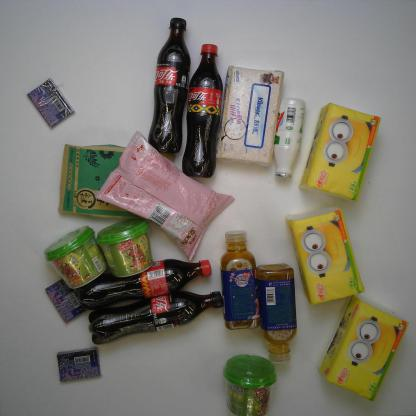Dried Food: (49, 142, 179, 223)
Drink: (85, 255, 214, 308), (88, 292, 224, 342), (147, 15, 190, 159), (258, 260, 311, 366), (186, 45, 226, 179), (218, 229, 263, 335)
Gum: (49, 346, 109, 388), (26, 78, 72, 131), (41, 276, 87, 326)
Instant Drink: (44, 224, 106, 290), (96, 218, 156, 282), (217, 352, 278, 413)
Milk: (268, 97, 305, 181)
Puffed Food: (100, 134, 234, 256)
Tissue: (315, 293, 410, 404), (281, 210, 372, 308), (299, 102, 385, 205), (215, 65, 293, 174)
